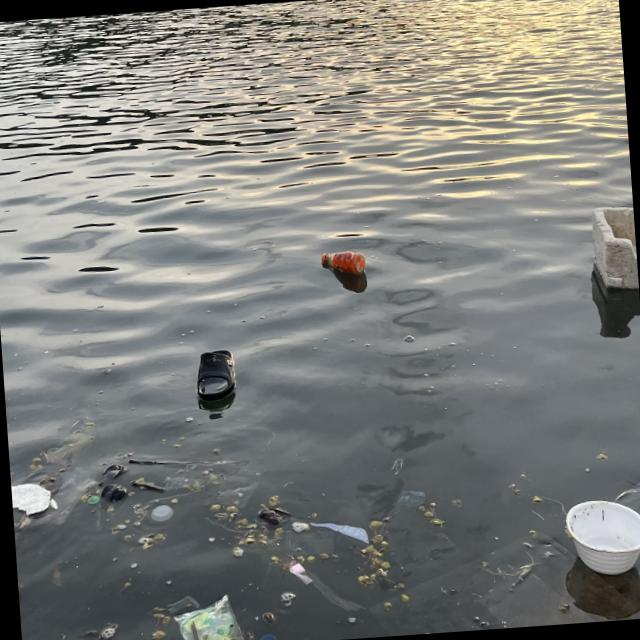foam: (567, 497, 640, 579), (590, 204, 640, 289), (12, 480, 53, 519)
plastic bottle: (321, 251, 369, 278)
